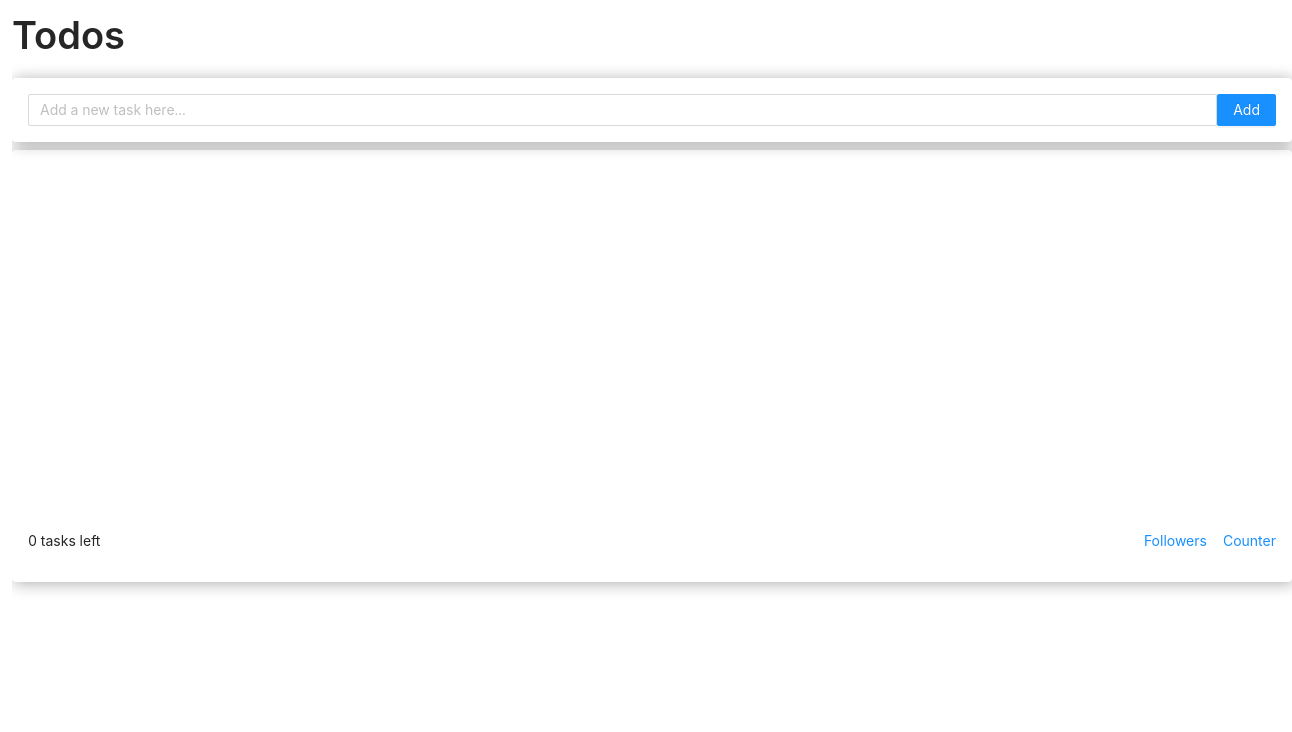
Test: Todo integration test › todo list should render correct › should render all tasks
Type "Go home" into the field with placeholder "Add a new task here..." at (623, 110), box [28,94,1217,126]
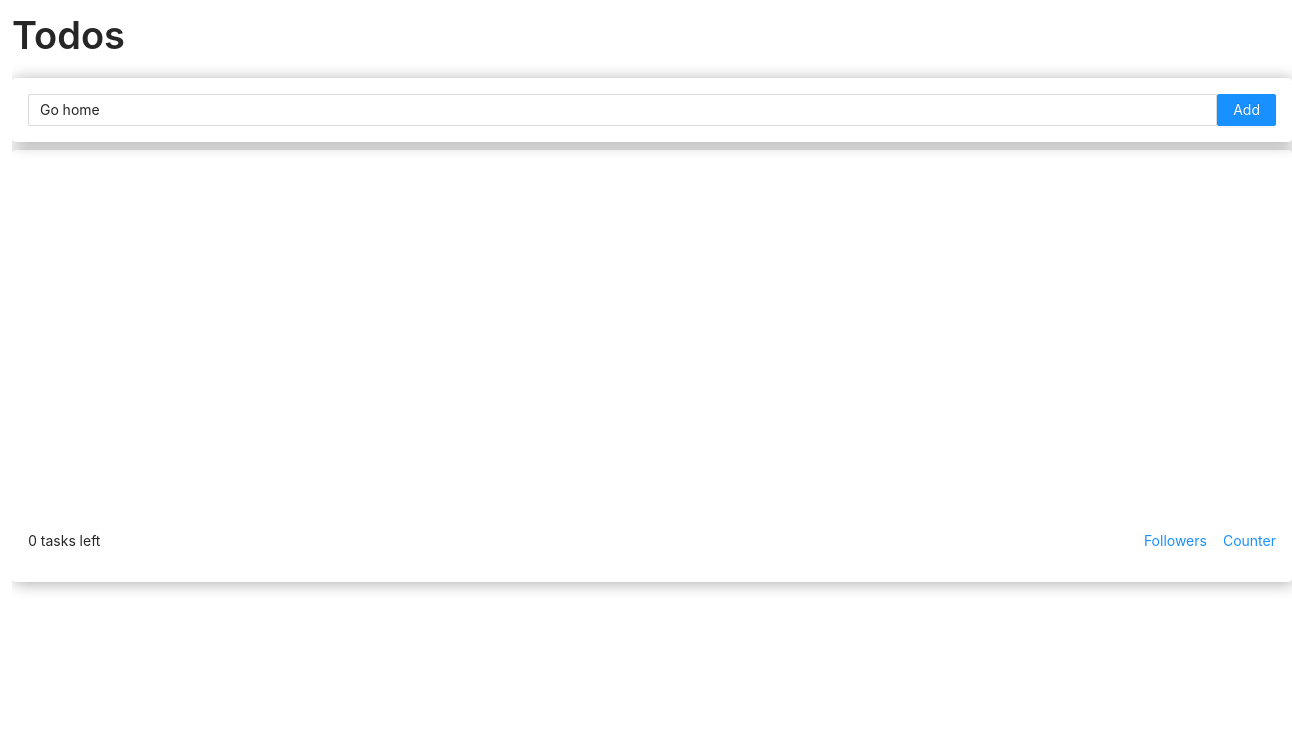
Click the button "Add" at (1247, 110), box [1217,94,1276,126]
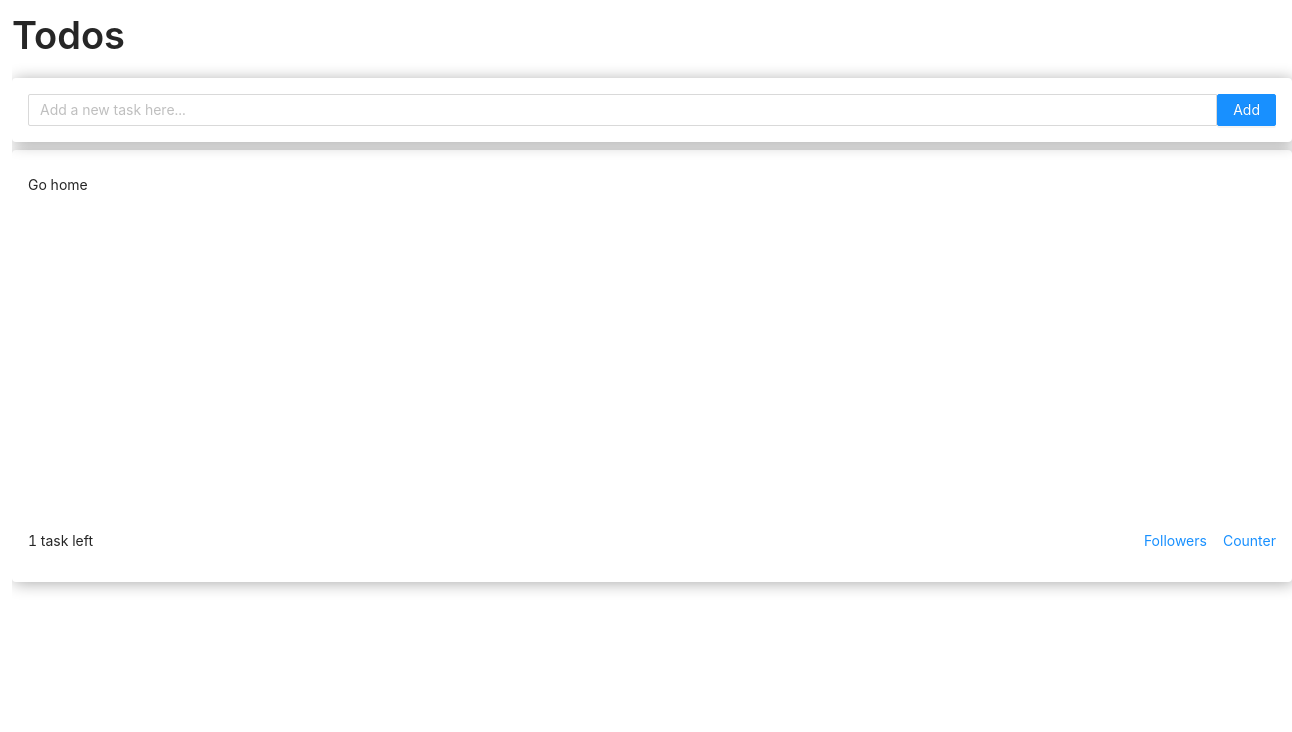
Type "Go school" into the field with placeholder "Add a new task here..." at (623, 110), box [28,94,1217,126]
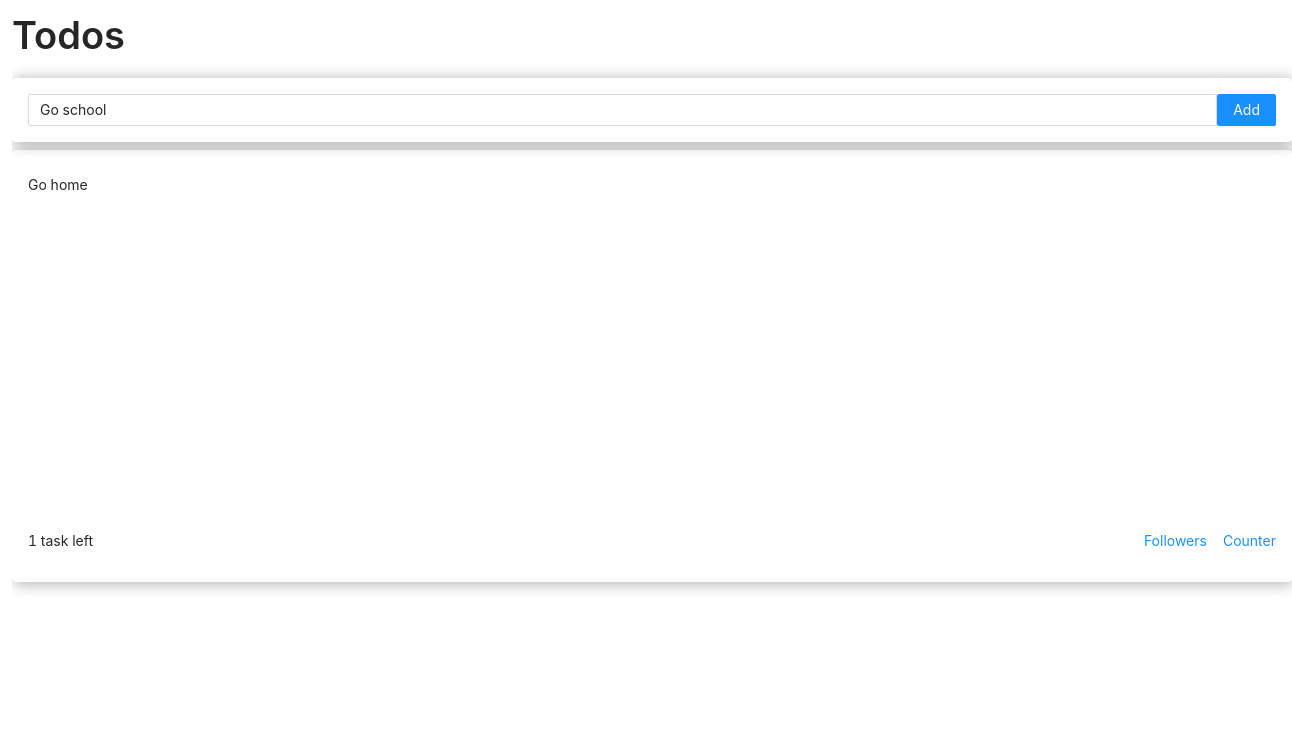
Click the button "Add" at (1247, 110), box [1217,94,1276,126]
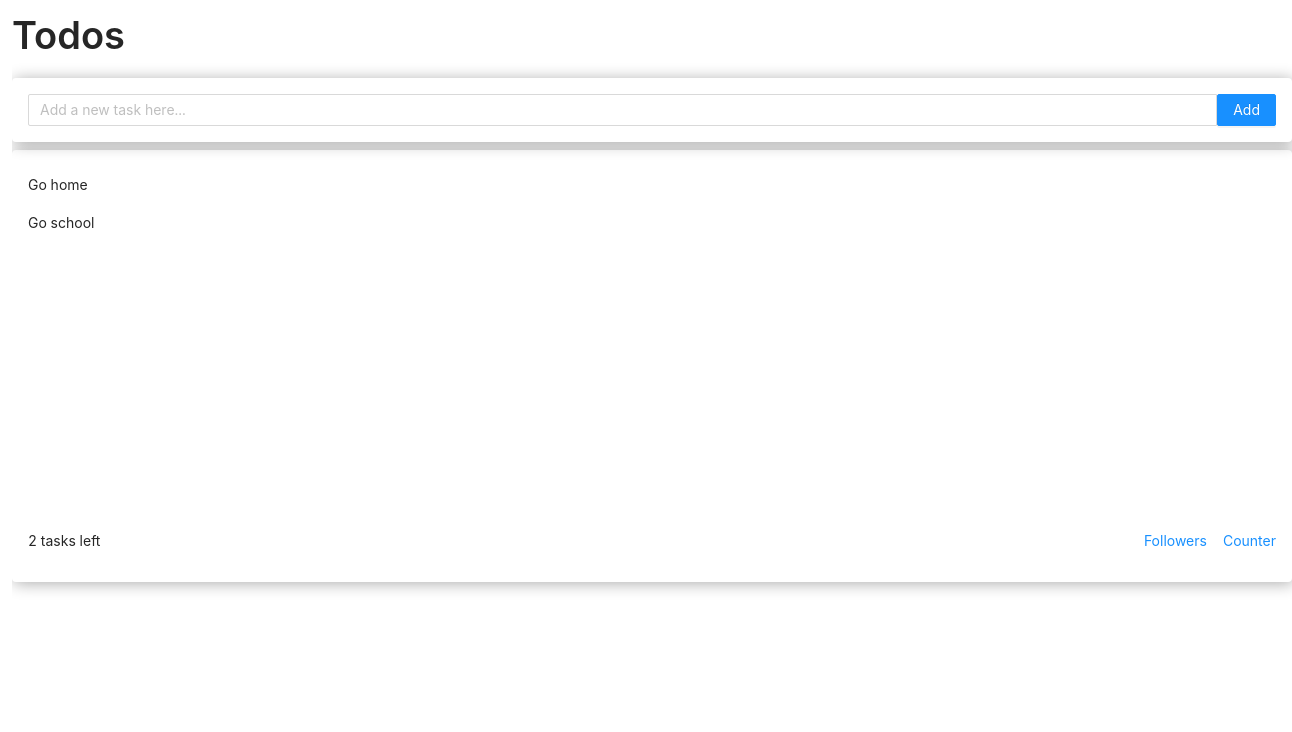
Expected: the number of list items is 2, [28,176,88,193]; [28,214,94,231]
